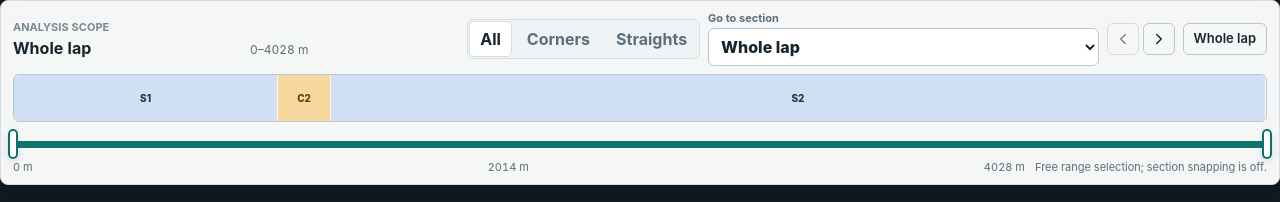
Test: SegmentScopeNavigator › keeps section buttons, precise selection, range thumbs, and summary on one controlled scope
The image size is (1280, 202).
Expected: the text "0–4028 m" is shown, x1=250 y1=42 x2=308 y2=56
Click the button "C2" at (305, 98), box x1=278 y1=75 x2=331 y2=121
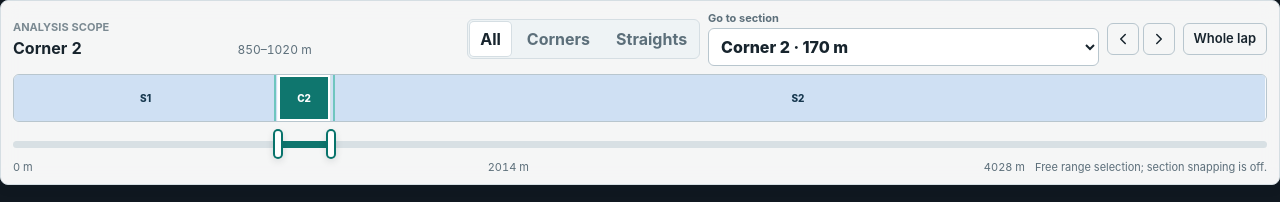
Result: the text "850–1020 m" is shown at x1=238 y1=42 x2=312 y2=56
Select "Straight 1 · 850 m" in the dropdown labelled "Go to section" at (903, 47), box x1=708 y1=28 x2=1098 y2=66
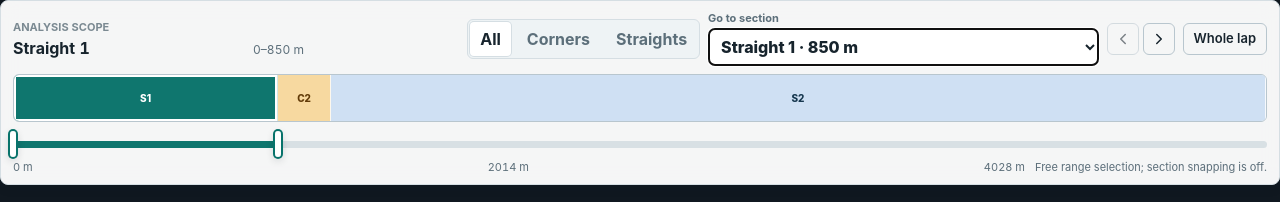
Result: the text "0–850 m" is shown at x1=253 y1=42 x2=304 y2=56
Press ArrowRight in the slider named "Range start", box x1=10 y1=131 x2=16 y2=157
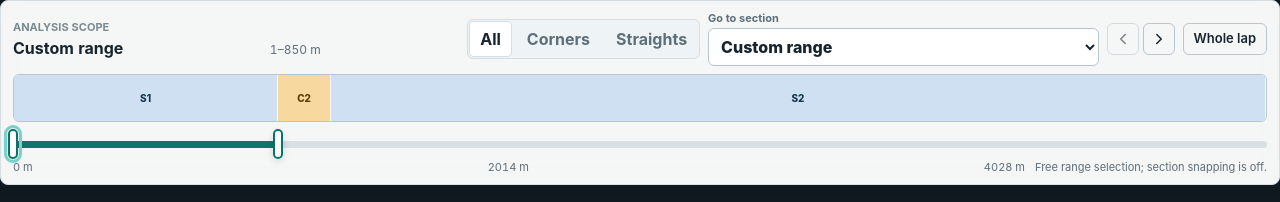
Result: the text "1–850 m" is shown at x1=270 y1=42 x2=321 y2=56
Click the button "Whole lap" at (1225, 38), box x1=1182 y1=22 x2=1267 y2=54
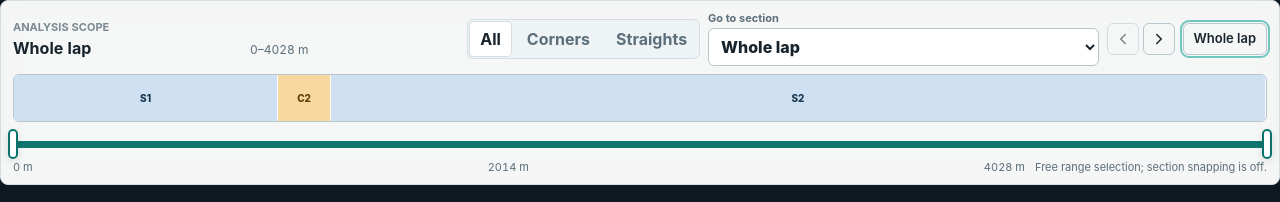
Result: the text "0–4028 m" is shown at x1=250 y1=42 x2=308 y2=56
